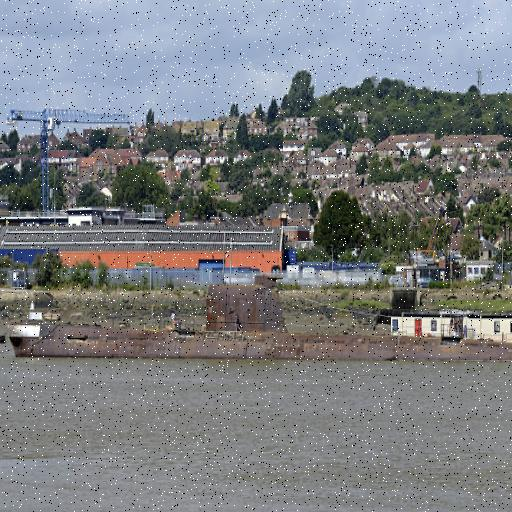submarine: (12, 286, 512, 366)
